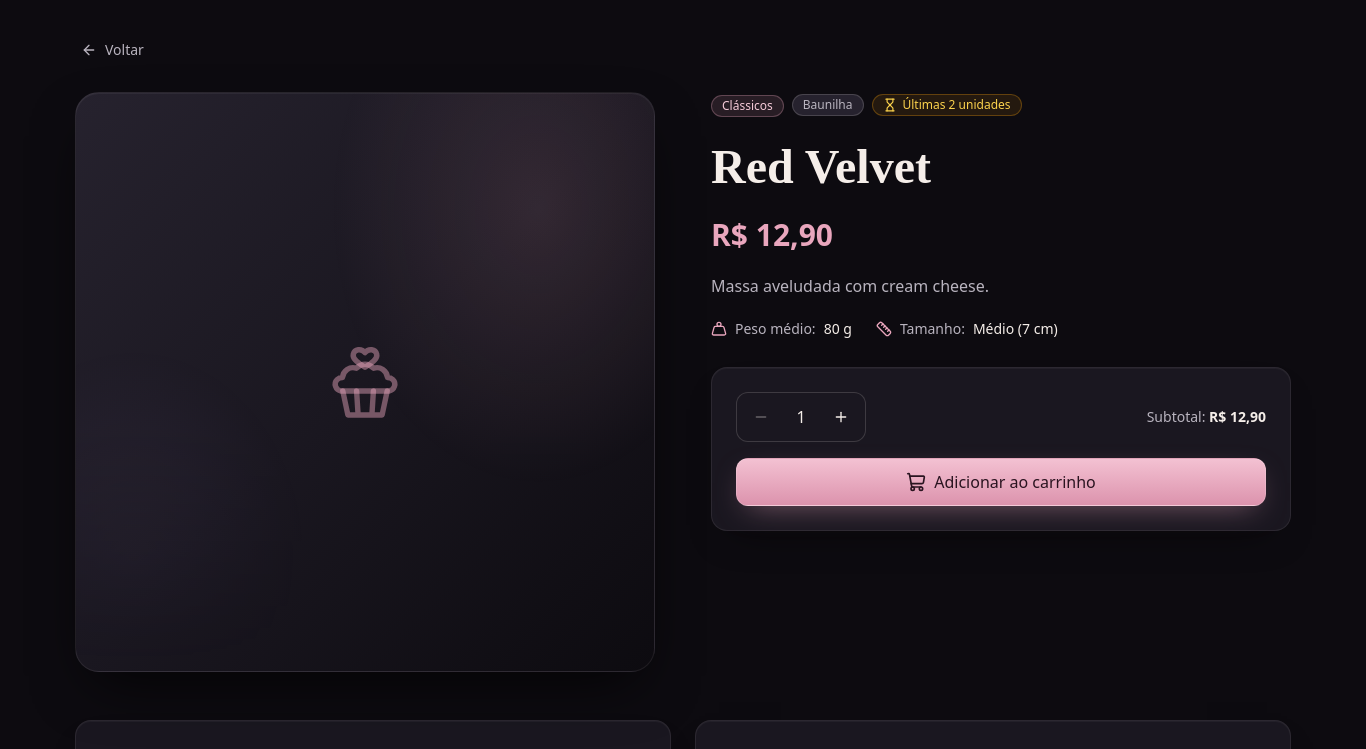
Test: CupcakeDetailPage › limita a quantidade ao estoque do dia (US07 RN#01)
Click the button named "Aumentar quantidade de Red Velvet" at (841, 417), box [821,397,861,437]
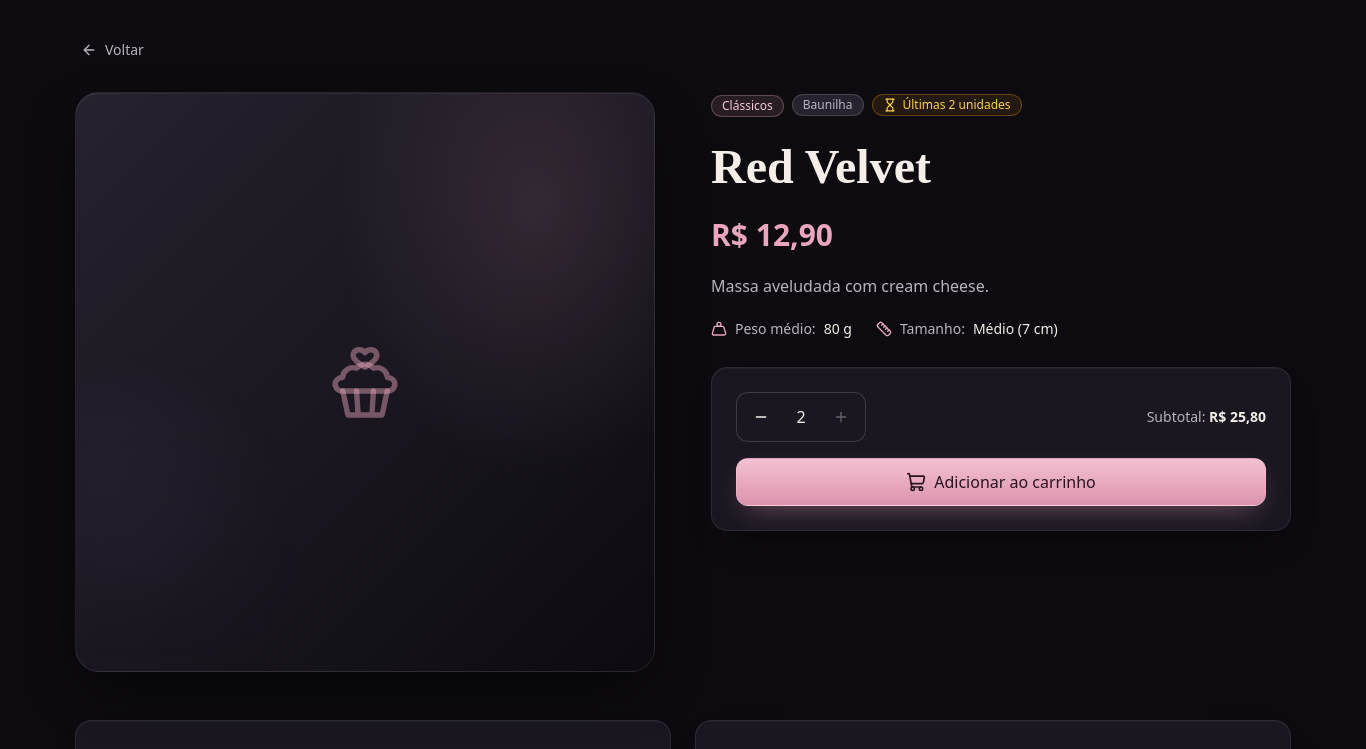
Now the button named "Aumentar quantidade de Red Velvet" is disabled, box [821,397,861,437]
Now the text named "Quantidade de Red Velvet" reads "2", box [796,406,806,428]
